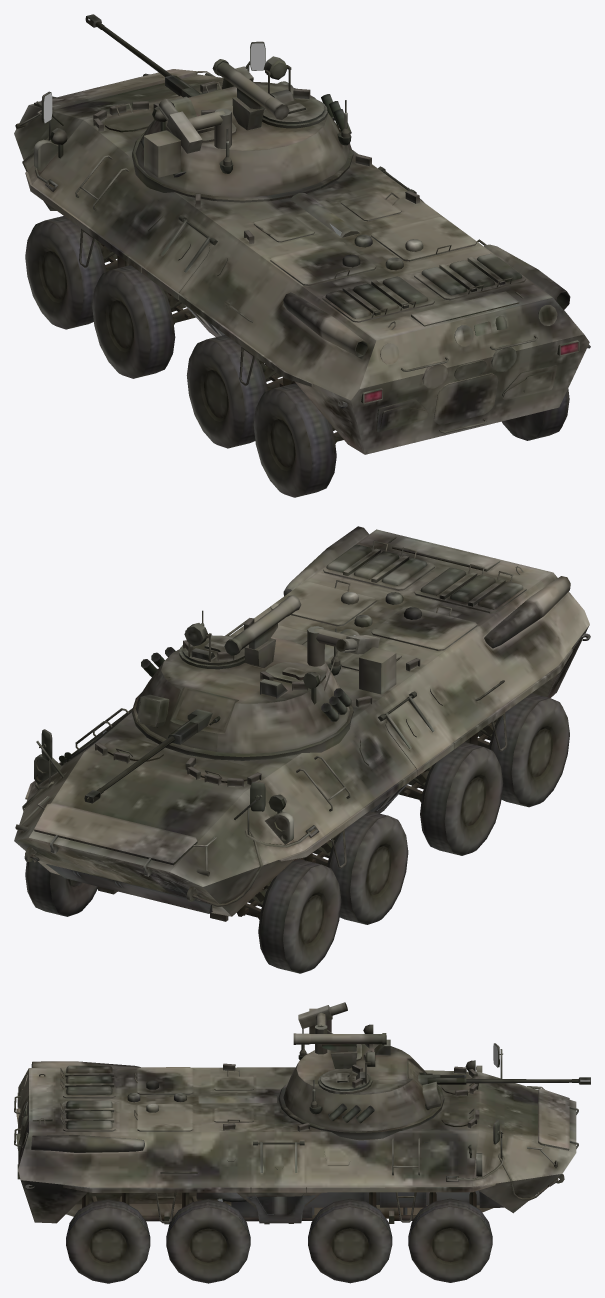
The model's file is v_btr90.glb.
The picture shows the model from 3 angles, top to bottom: view 1: azimuth 30°, elevation 25°; view 2: azimuth 150°, elevation 25°; view 3: azimuth 270°, elevation 25°; orthographic projection. The views are drawn at different scales.
Visible parts, largest first — view 1: DrawCall_0036, DrawCall_0006, DrawCall_0009, DrawCall_0007, DrawCall_0013, DrawCall_0005, DrawCall_0012, DrawCall_0014; view 2: DrawCall_0036, DrawCall_0006, DrawCall_0009, DrawCall_0007, DrawCall_0013, DrawCall_0217, DrawCall_0005, DrawCall_0008, DrawCall_0012; view 3: DrawCall_0036, DrawCall_0006, DrawCall_0009, DrawCall_0007, DrawCall_0217, DrawCall_0005, DrawCall_0013, DrawCall_0012, DrawCall_0008.
Boxes of the visible parts, box(x1,y1,x2,y2) form: DrawCall_0036: box(14, 69, 589, 454); DrawCall_0006: box(25, 216, 569, 497); DrawCall_0009: box(135, 56, 351, 197); DrawCall_0007: box(15, 41, 590, 433); DrawCall_0013: box(144, 99, 231, 177); DrawCall_0005: box(197, 94, 327, 142); DrawCall_0012: box(85, 14, 171, 76); DrawCall_0014: box(44, 43, 264, 122); DrawCall_0036: box(14, 526, 589, 916); DrawCall_0006: box(25, 693, 569, 973); DrawCall_0009: box(135, 595, 351, 753); DrawCall_0007: box(15, 536, 590, 921); DrawCall_0013: box(307, 626, 396, 694); DrawCall_0217: box(46, 635, 409, 913); DrawCall_0005: box(154, 635, 325, 727); DrawCall_0008: box(168, 709, 220, 744); DrawCall_0012: box(84, 736, 174, 803); DrawCall_0036: box(16, 1061, 576, 1223); DrawCall_0006: box(66, 1191, 492, 1283); DrawCall_0009: box(283, 1024, 441, 1131); DrawCall_0007: box(14, 1043, 578, 1224); DrawCall_0217: box(196, 1142, 503, 1223); DrawCall_0005: box(318, 1044, 429, 1109); DrawCall_0013: box(298, 1002, 347, 1054); DrawCall_0012: box(466, 1077, 590, 1084); DrawCall_0008: box(418, 1072, 466, 1084).
Size of the model in its own units: 0.0822 by 0.0771 by 0.1991.
Materials: 6 (5 with a texture image).
